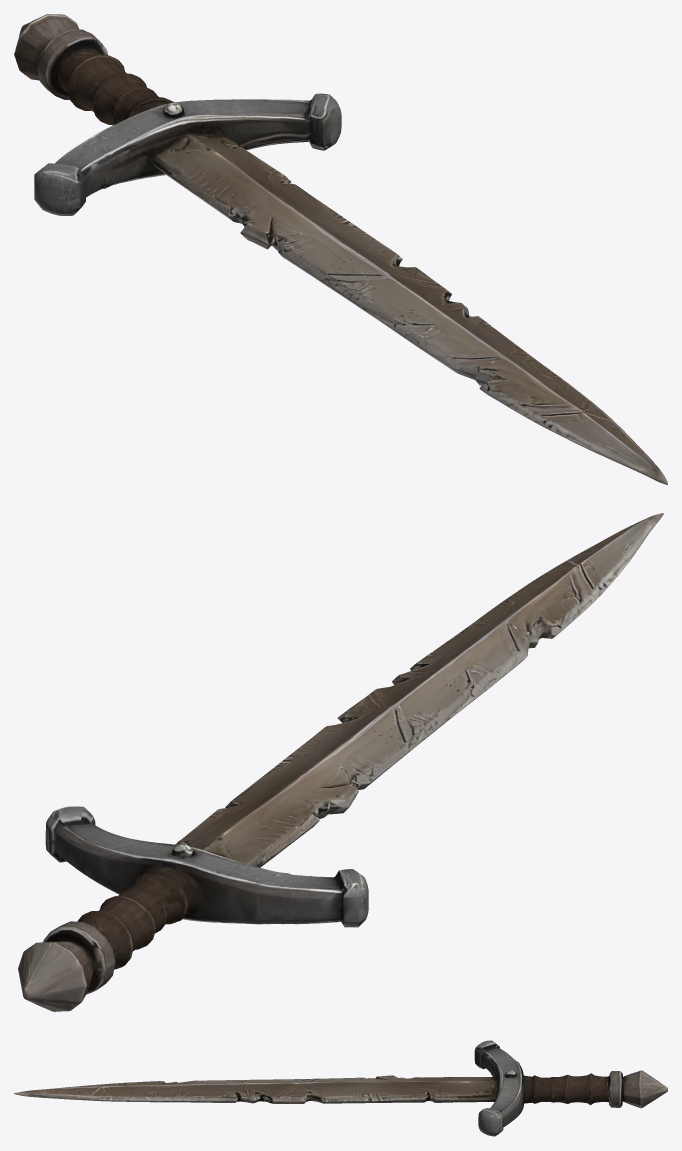
File: EQ_Rusted_Sword.fbx
3 views of the same model, one above another, from view 1: azimuth 30°, elevation 25°; view 2: azimuth 150°, elevation 25°; view 3: azimuth 270°, elevation 25° (orthographic). The views are drawn at different scales.
Visible parts, largest first — view 1: node_0; view 2: node_0; view 3: node_0.
Part boxes in pixels (x1,y1,x2,y2): node_0: [14, 14, 667, 484]; node_0: [18, 513, 663, 1011]; node_0: [14, 1040, 667, 1136].
Bounding box in the file's own units: 68.96 × 15.29 × 247.
Materials: 1 (1 with a texture image).
